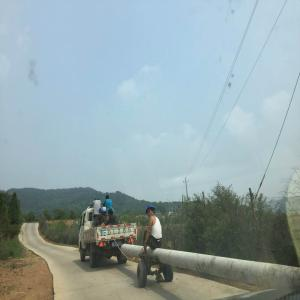blue: (147, 205, 156, 219), (100, 208, 105, 218), (106, 214, 110, 221)
none: (109, 210, 115, 219), (106, 195, 110, 201)
